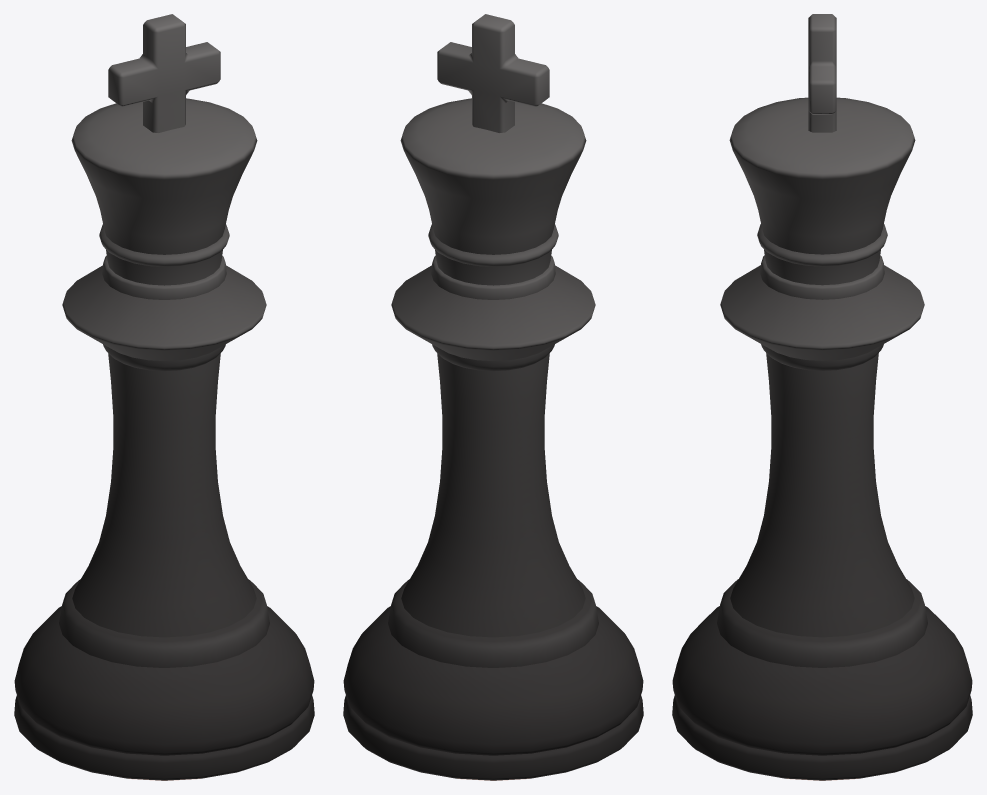
Rendered from Chess_Black_King_01.glb.
3 renders of one model, left to right at view 1: azimuth 30°, elevation 25°; view 2: azimuth 150°, elevation 25°; view 3: azimuth 270°, elevation 25°, orthographic.
Parts seen in each view (by area): view 1: Chess_Black_King_01; view 2: Chess_Black_King_01; view 3: Chess_Black_King_01.
Boxes of the visible parts, bbox=[...] form: Chess_Black_King_01: bbox=[14, 14, 314, 780]; Chess_Black_King_01: bbox=[343, 14, 643, 780]; Chess_Black_King_01: bbox=[672, 14, 972, 780].
Size of the model in its own units: 0.0401 by 0.1036 by 0.0401.
2 materials, 2 textured.
